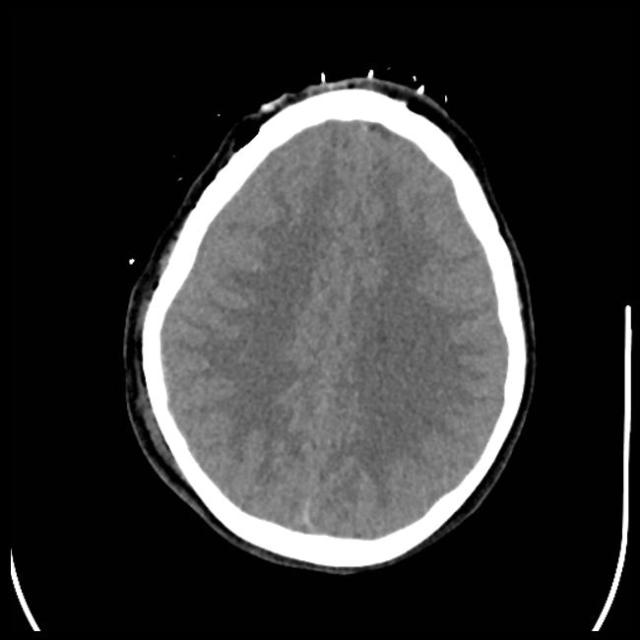lesion: (121, 74, 539, 573)
